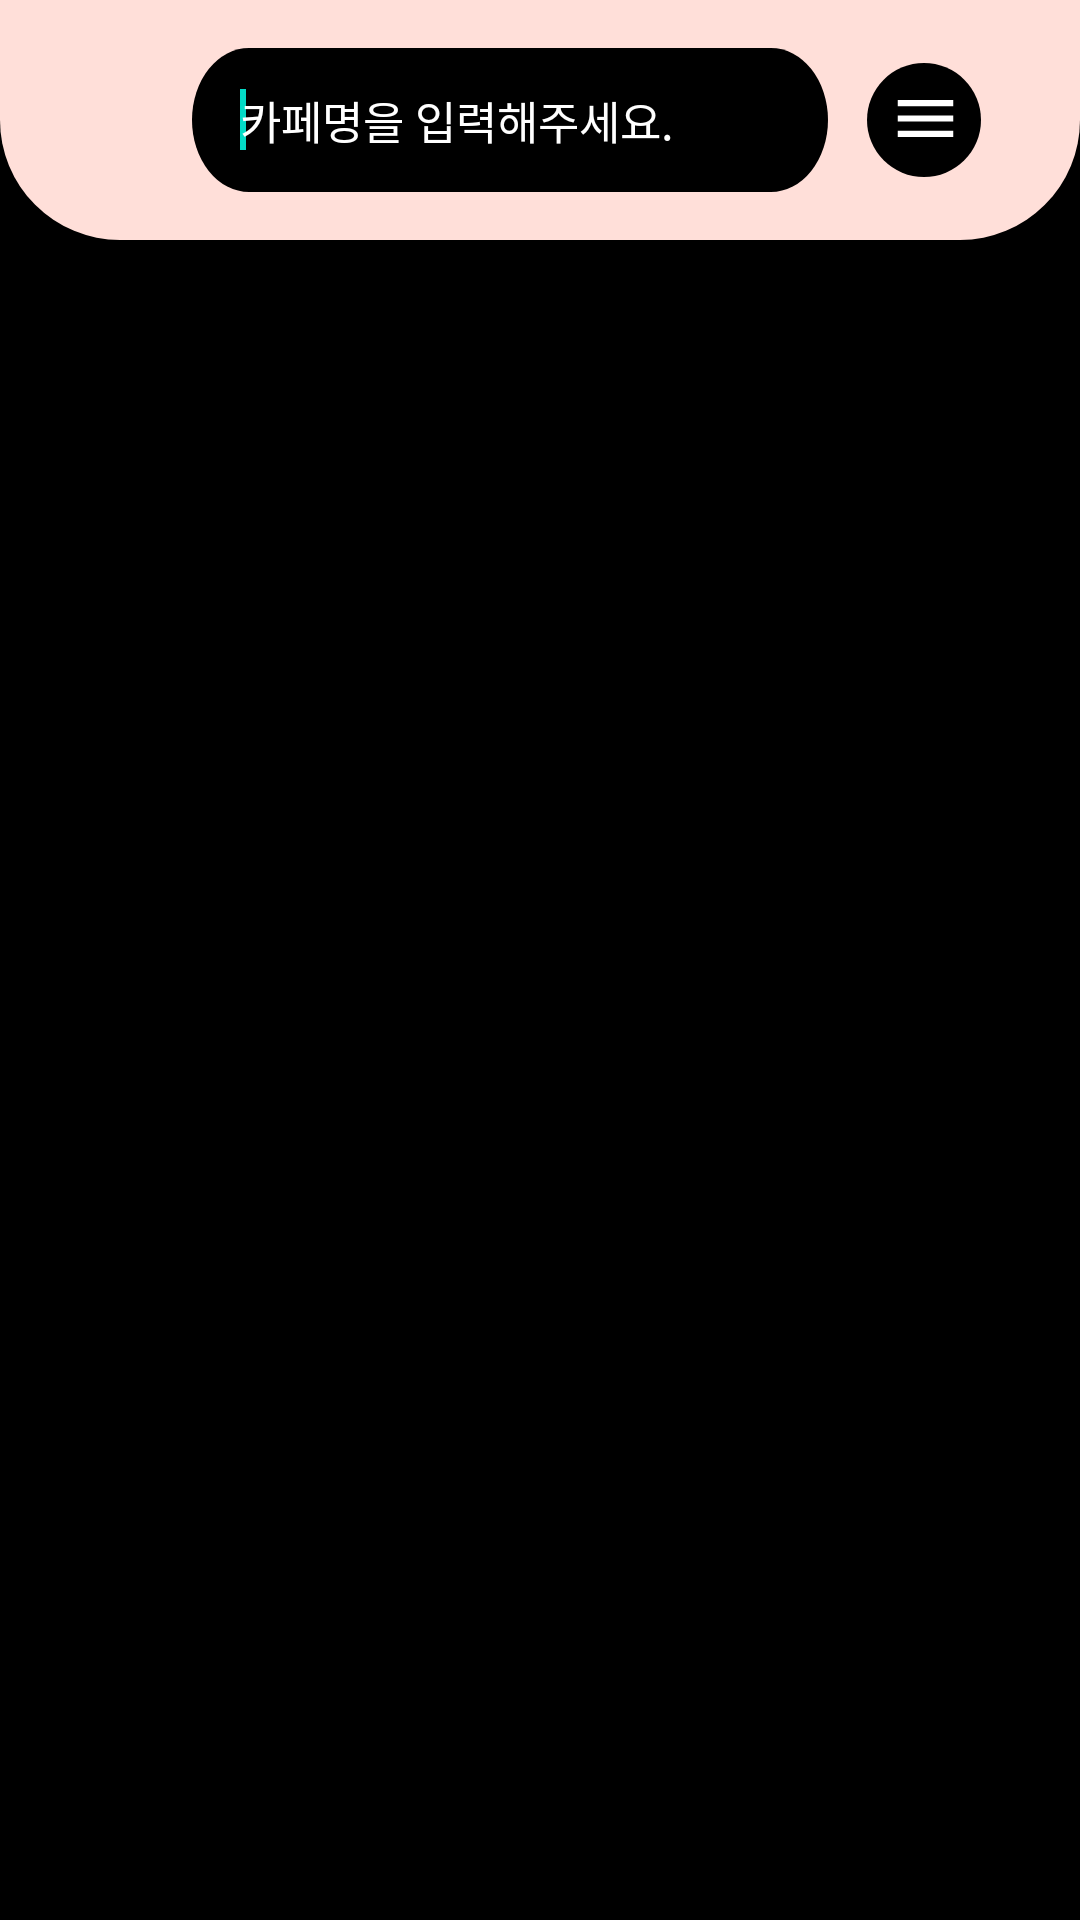

Screen size 1080*1920. Icon name, then its box in pixels as (x1, y1, x2, y2):
menu: (867, 63, 981, 177)
